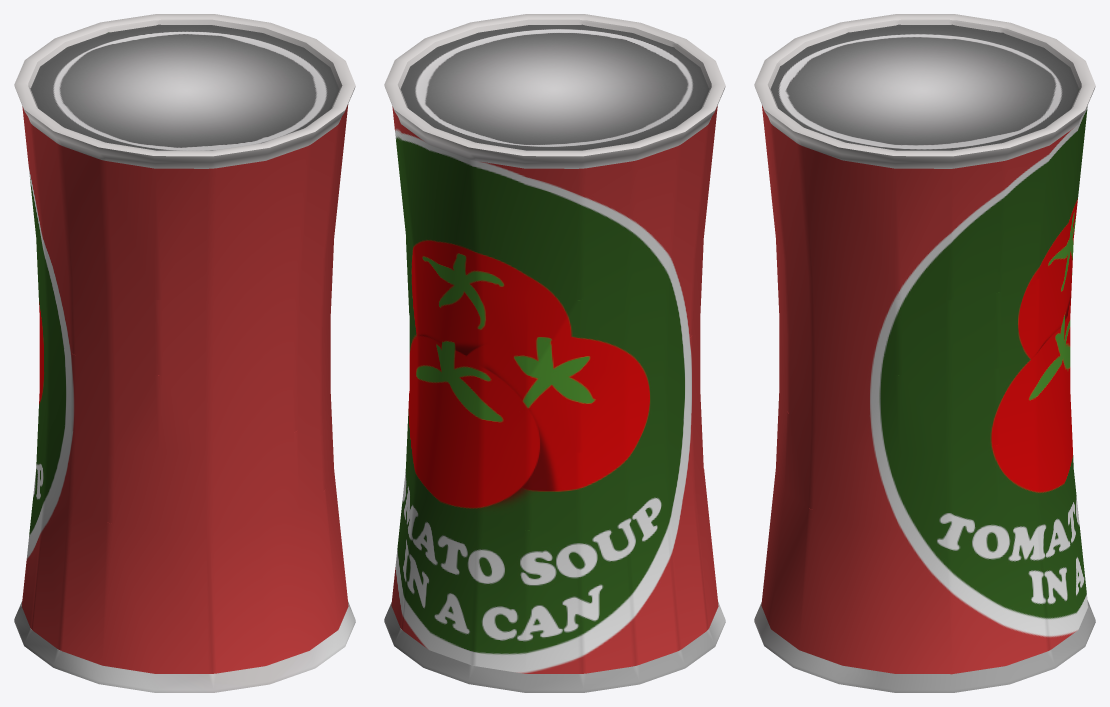
The model's file is food can - tomato soup.fbx.
The picture shows the model from 3 angles, left to right: view 1: azimuth 30°, elevation 25°; view 2: azimuth 150°, elevation 25°; view 3: azimuth 270°, elevation 25°; orthographic projection.
Visible parts, largest first — view 1: food can tomato soup; view 2: food can tomato soup; view 3: food can tomato soup.
Part boxes in pixels (left/top/right/bottom): food can tomato soup: left=14, top=14, right=355, bottom=692; food can tomato soup: left=384, top=14, right=725, bottom=692; food can tomato soup: left=754, top=14, right=1095, bottom=692.
Bounding box in the file's own units: 14.8 × 26.1 × 15.01.
